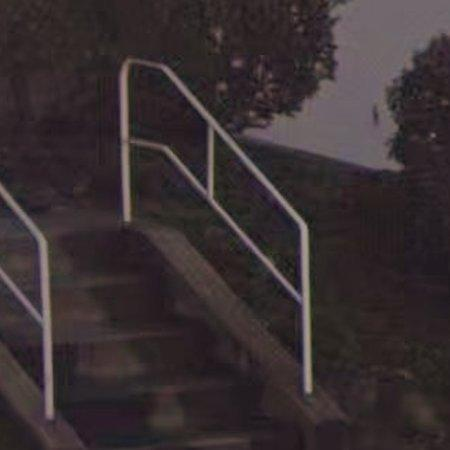stairs: (38, 212, 297, 450), (0, 283, 41, 382), (0, 203, 38, 306)
